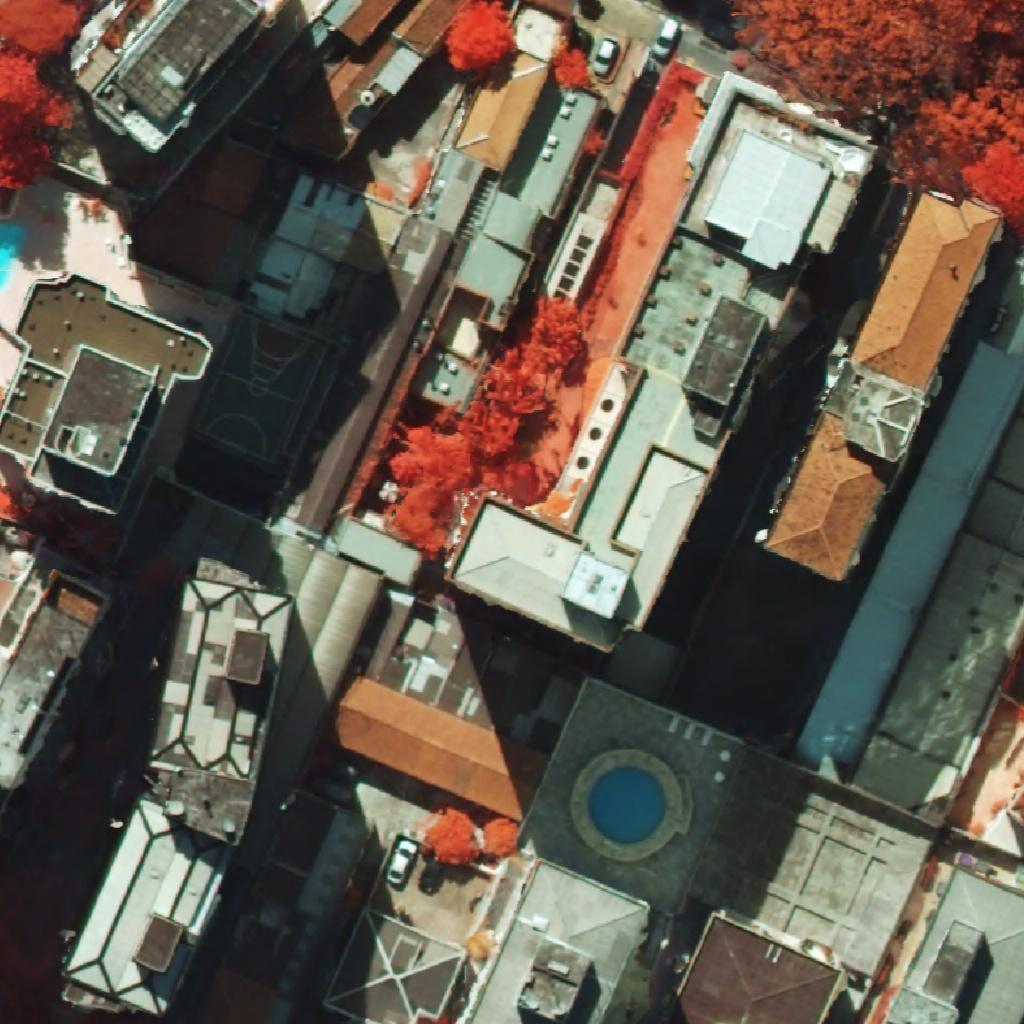pool: (588, 767, 666, 844), (0, 225, 25, 291)
